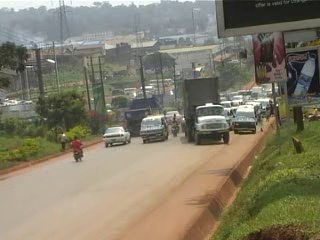Car: (99, 125, 133, 148)
Motorcycle: (64, 136, 87, 167), (170, 114, 180, 136)
